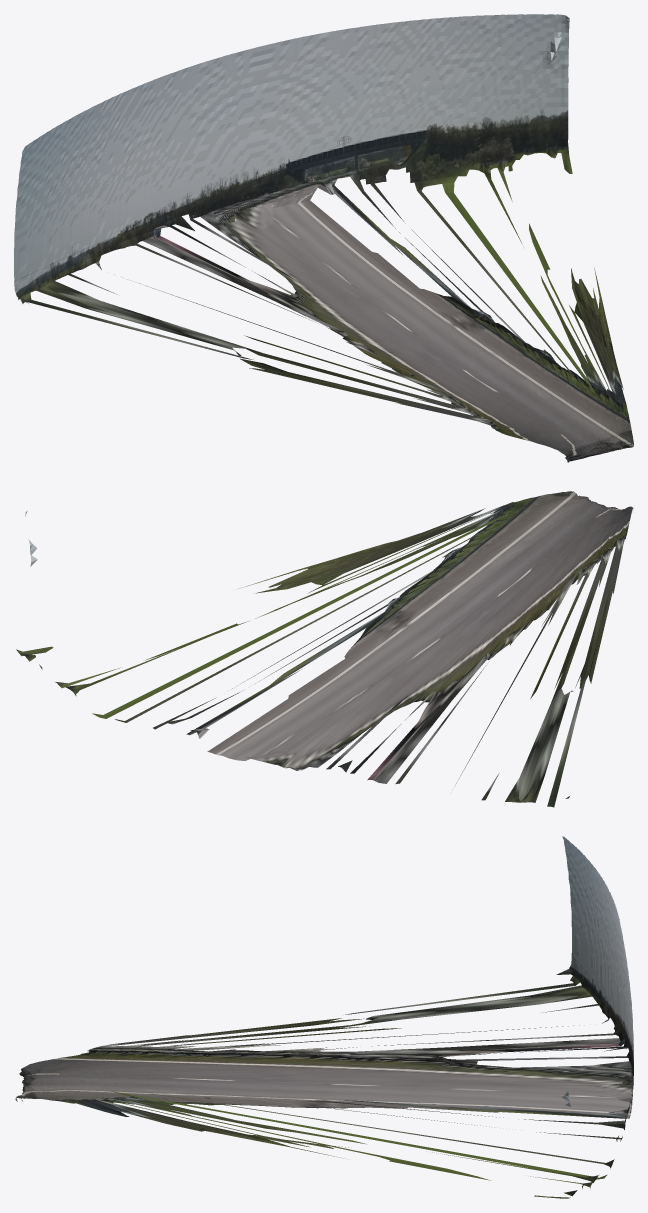
3 views of the same model, one above another, from view 1: azimuth 30°, elevation 25°; view 2: azimuth 150°, elevation 25°; view 3: azimuth 270°, elevation 25° (orthographic). The views are drawn at different scales.
Visible parts, largest first — view 1: defaultobject; view 2: defaultobject; view 3: defaultobject.
Boxes of the visible parts, x1=… form: defaultobject: x1=14, y1=14, x2=633, y2=462; defaultobject: x1=16, y1=491, x2=633, y2=807; defaultobject: x1=15, y1=836, x2=633, y2=1198.
Bounding box in the file's own units: 41.14 × 12.69 × 44.71.
1 material, 1 textured.
